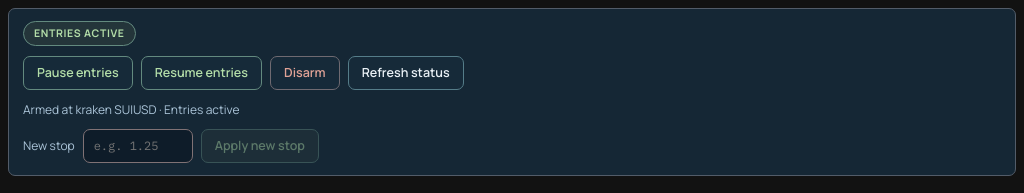
Test: EditorInlineStopControl stop persistence across disarm + re-arm › (b) renders stop at 6.25 after a confirmed raise_stop success
In the field with test id "editor-inline-stop-new-stop": [138, 146] box [83,129,193,163], type "6.25"
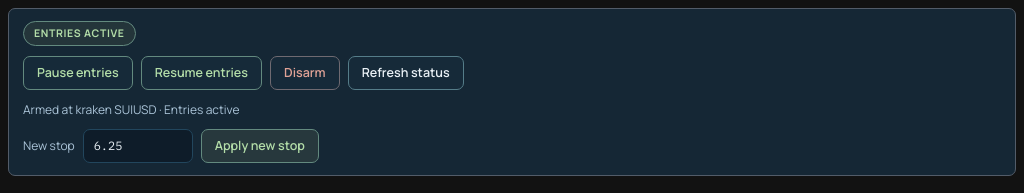
Expected: the button with test id "editor-inline-stop-apply" is enabled
Click the button with test id "editor-inline-stop-apply": [260, 146] box [201,129,319,163]
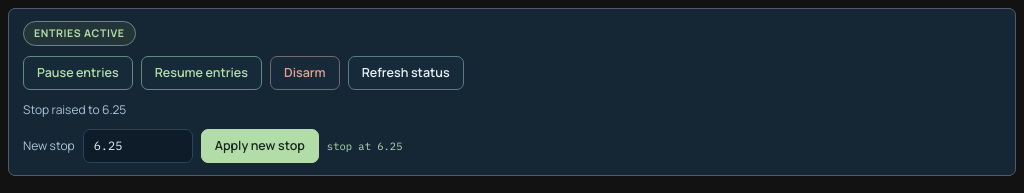
Expected: the text with test id "editor-inline-stop-at" reads "stop at 6.25", [327,139,402,153]
